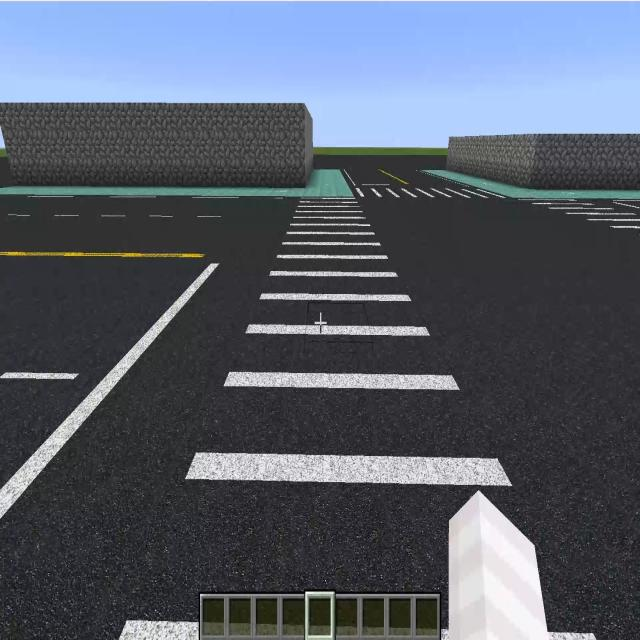crosswalk: (115, 198, 608, 639), (522, 200, 639, 236), (352, 179, 514, 197)
road: (2, 205, 293, 624), (371, 202, 636, 618), (315, 154, 452, 181)
sidewalk: (0, 169, 352, 199), (419, 170, 640, 200)
